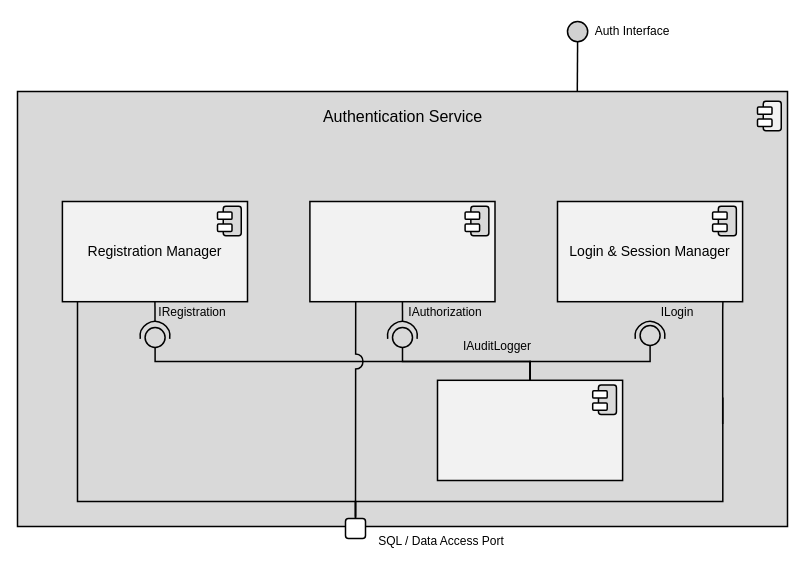
Image size: 806x574. Some labels were removed from this diagram. Here are the shapes that lost their labels. From the top down, the box of each, then its label:
(309, 200, 495, 302): Authorization/Role Manager
(436, 379, 623, 481): Security Audit Logger
